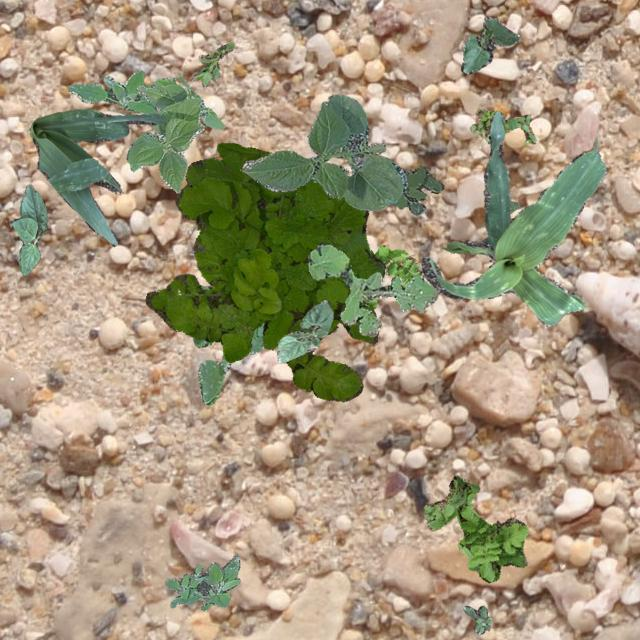crop: (420, 110, 604, 326), (240, 94, 407, 210), (28, 107, 164, 245), (125, 75, 224, 192), (276, 299, 332, 362), (8, 184, 46, 274), (460, 16, 520, 72)
weed: (143, 142, 384, 400), (306, 240, 436, 336), (422, 474, 528, 582), (193, 284, 263, 404), (66, 70, 174, 114), (163, 552, 240, 610), (362, 245, 422, 308), (394, 163, 444, 214), (468, 108, 534, 142), (190, 42, 232, 86), (462, 604, 490, 634), (508, 200, 520, 212)
